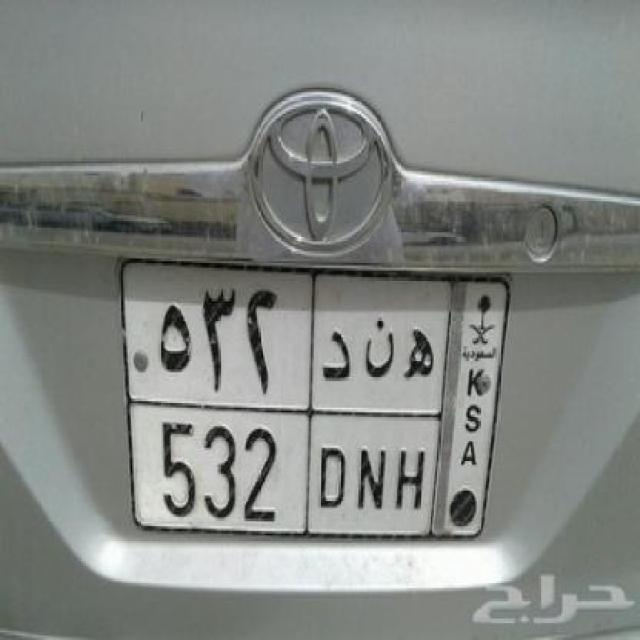license_plate: (115, 252, 516, 546)
